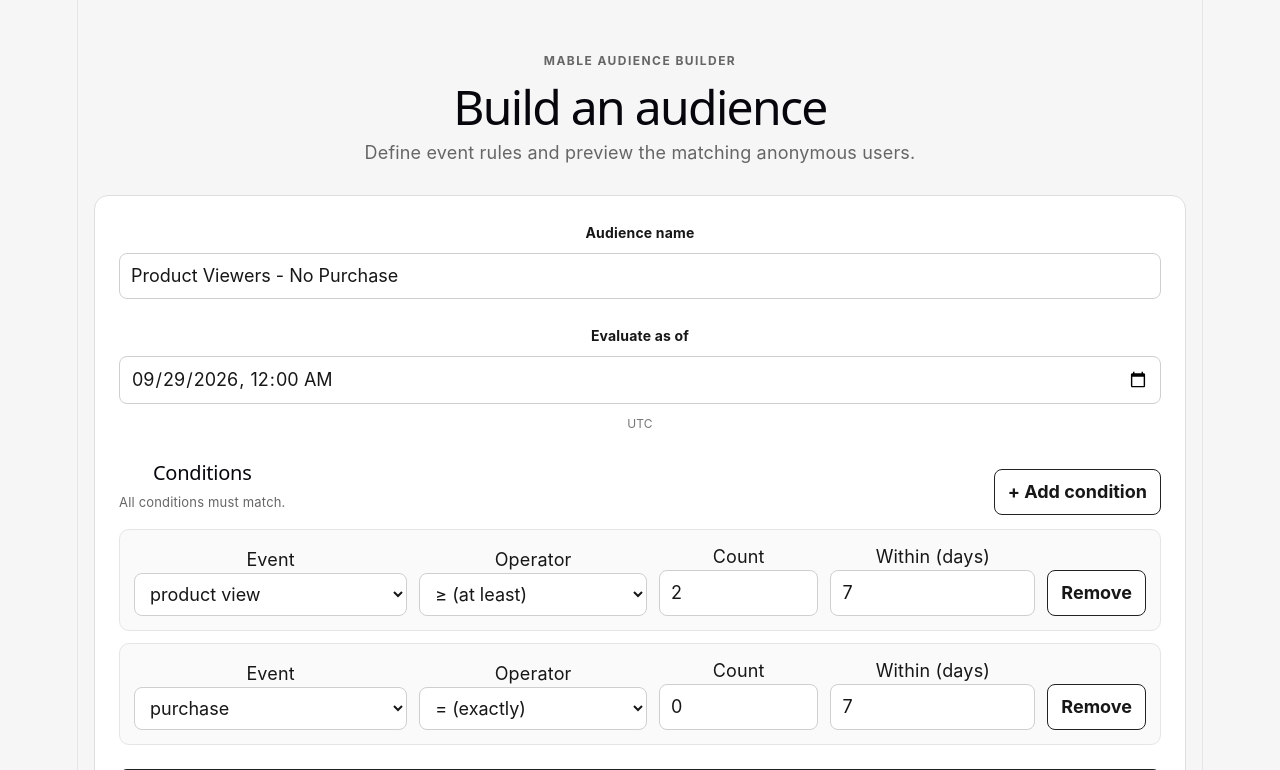
it: AudienceBuilder › add condition adds a new condition row
This screenshot has width=1280, height=770.
Check: the number of dropdowns labelled "Event" is 2, box [134,573,407,616]; [134,687,407,730]
// Click add condition button
Click the button with aria-label "add a new condition" at (1077,492), box [994,469,1161,515]
(page scrolled)
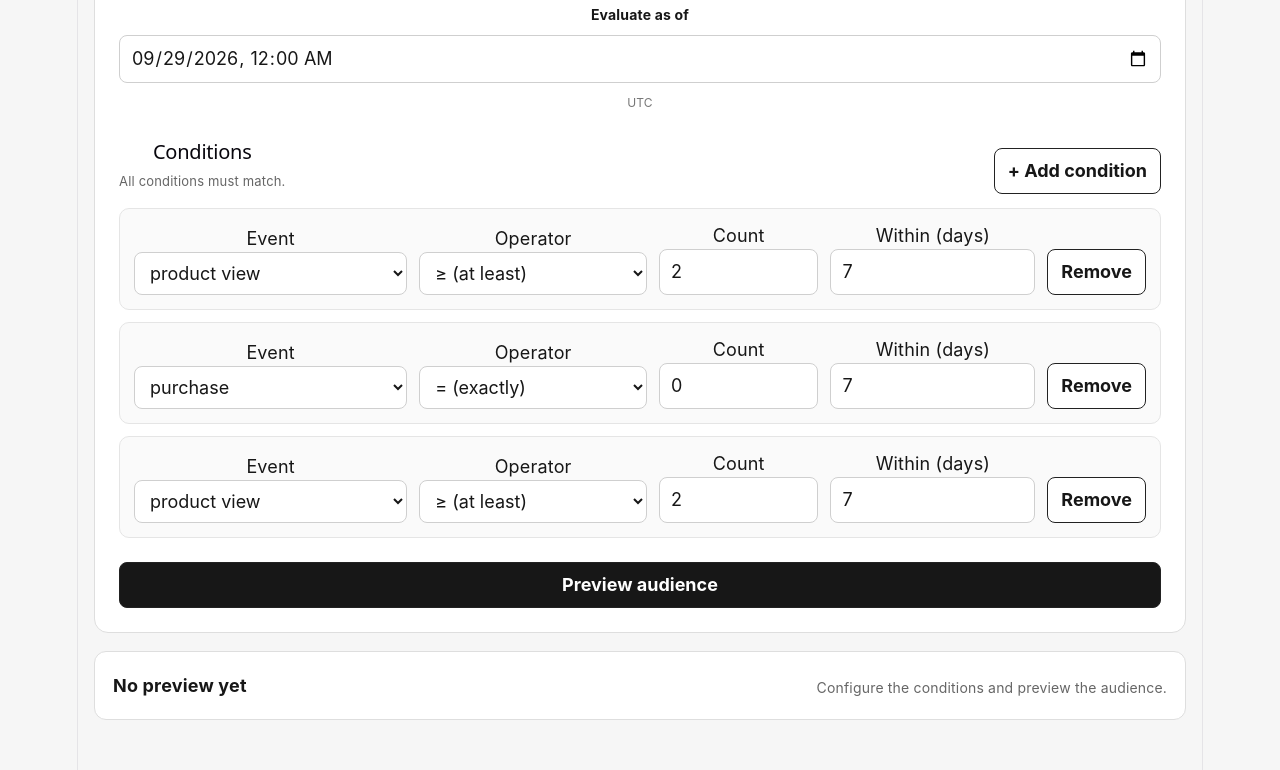
Check: the number of dropdowns labelled "Event" is 3, box [134,252,407,295]; [134,366,407,409]; [134,480,407,523]
Check: the 3rd dropdown labelled "Event" shows "product view", box [134,480,407,523]
Check: the 3rd dropdown labelled "Operator" shows "≥ (at least)", box [419,480,647,523]
